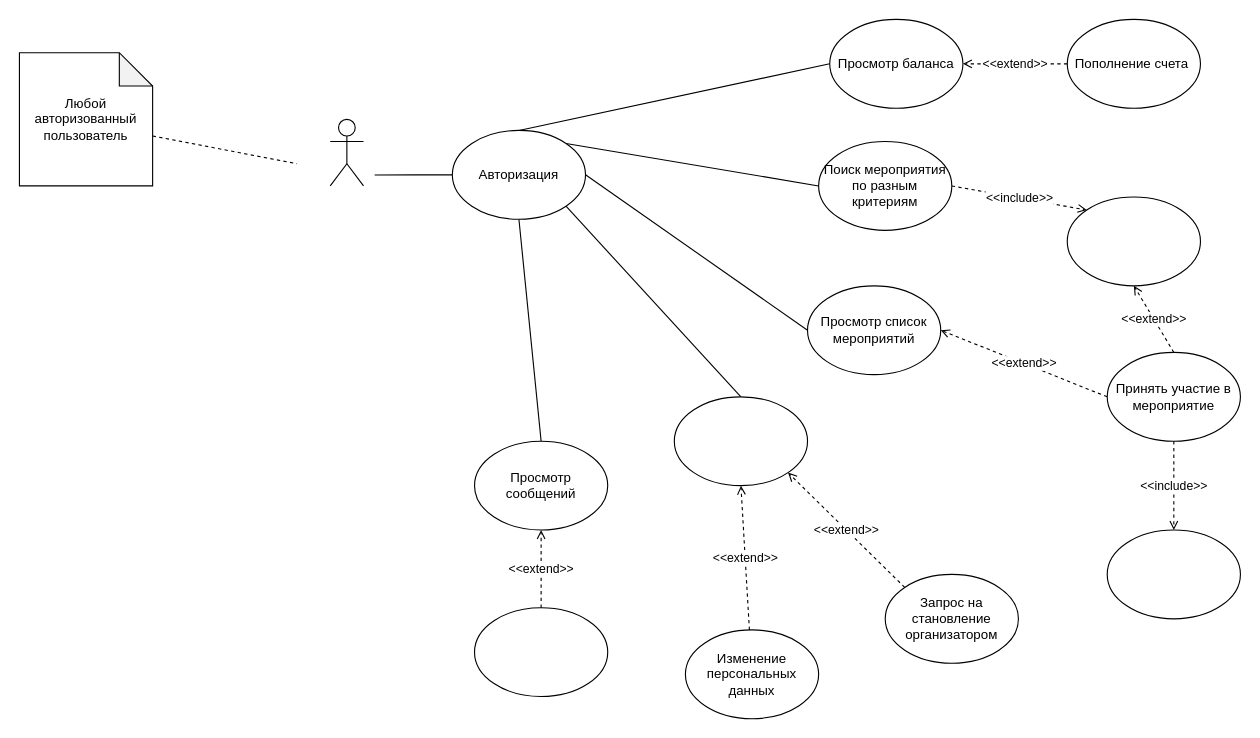
This 1260x738 diagram has some shape labels left out. Each missing label, with the centre of its shape:
"Ввод данных для поиска" belongs at (1133,241).
"Оплата за участие" belongs at (1173,574).
"Ответ на сообщения" belongs at (540,652).
"Пользователь" belongs at (346,152).
"Просмотр персональных данных" belongs at (740,441).
